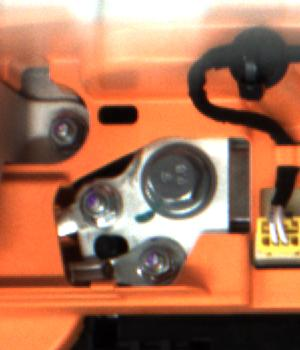nut_b: (136, 135, 218, 218)
